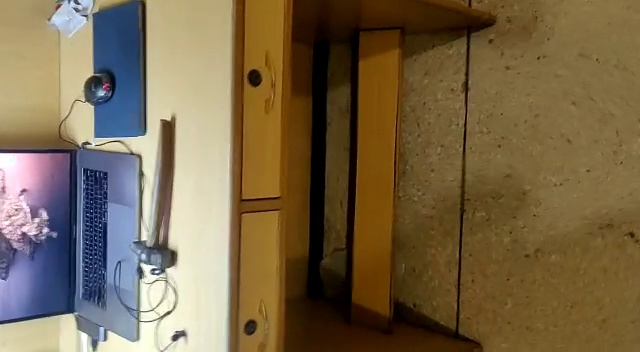hammer: (129, 121, 175, 270)
